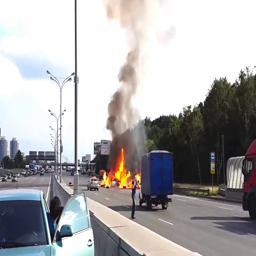fire: (100, 148, 141, 189)
